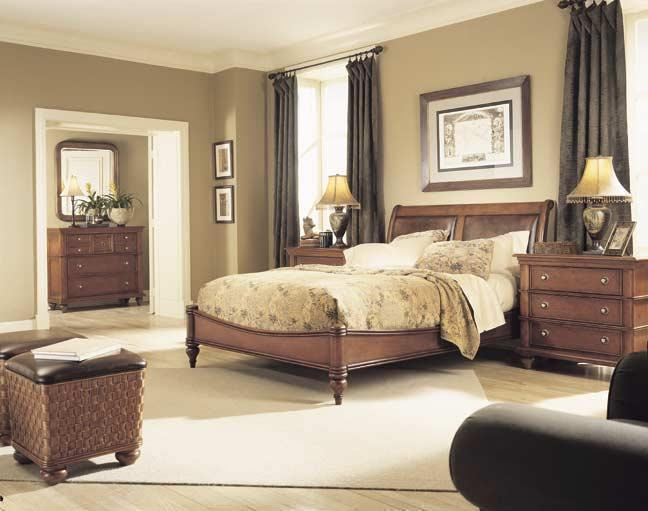Cama: (182, 234, 522, 371)
